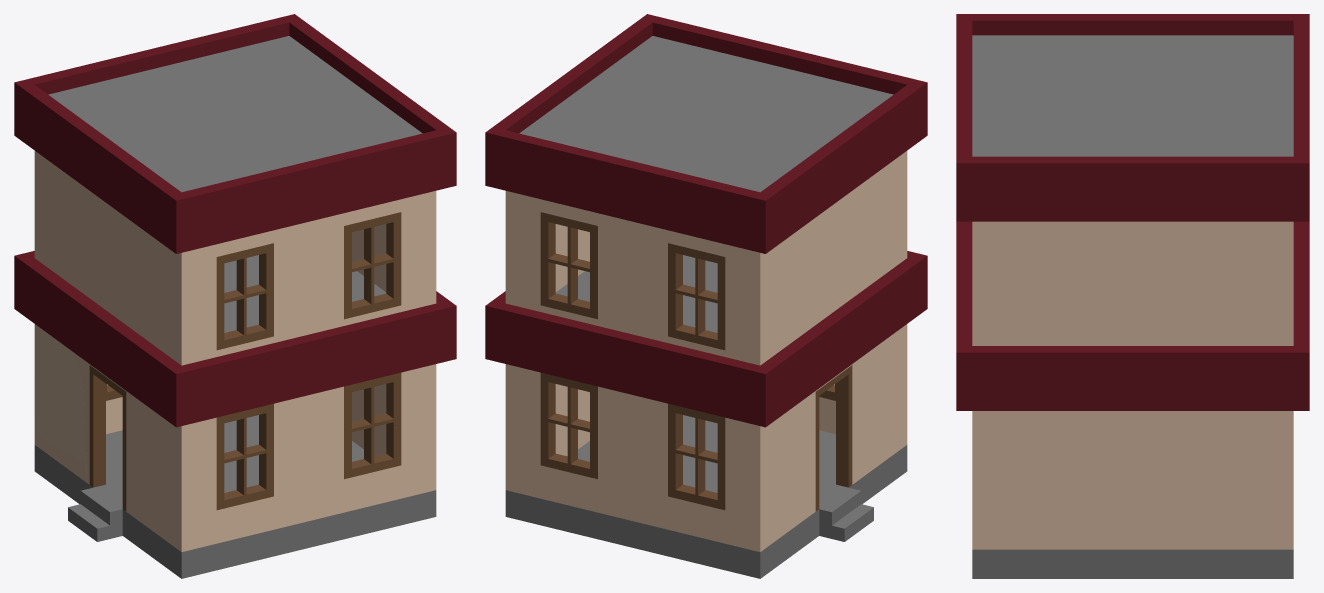
File: 2floor_build_breakablenew.fbx
The picture shows the model from 3 angles, left to right: view 1: azimuth 30°, elevation 25°; view 2: azimuth 150°, elevation 25°; view 3: azimuth 270°, elevation 25°; orthographic projection. The views are drawn at different scales.
Parts seen in each view (by area): view 1: Floors, Border, Wall_window, Wall, Floor, Window, Border.004_cell, Wall_window.003_cell.001_cell, Border_cell.001, Wall_Door_cell.001, Border_cell, Wall_Door_cell.002 (+35 smaller); view 2: Border, Wall_window, Floors, Wall, Window, Floor, Border.006_cell.001, Border.004_cell, Border_cell, Border.002_cell.001, Border_cell.001, Wall_Door_cell.001 (+18 smaller); view 3: Wall, Border, Floors, Border.001_cell, Floor, Border.005_cell.001, Border.005_cell, Wall_cell.002, Border.001_cell.001, Border.006_cell.001, Border.002_cell, Border.003_cell.001.
Part boxes in pixels (left/top/right/bottom): Floors: left=48, top=36, right=422, bottom=332; Border: left=15, top=17, right=456, bottom=427; Wall_window: left=106, top=194, right=423, bottom=548; Wall: left=34, top=151, right=436, bottom=492; Floor: left=34, top=415, right=436, bottom=578; Window: left=106, top=212, right=401, bottom=499; Border.004_cell: left=73, top=126, right=188, bottom=253; Wall_window.003_cell.001_cell: left=222, top=227, right=337, bottom=355; Border_cell.001: left=99, top=316, right=188, bottom=426; Wall_Door_cell.001: left=37, top=328, right=87, bottom=481; Border_cell: left=14, top=256, right=104, bottom=374; Wall_Door_cell.002: left=75, top=354, right=194, bottom=486; Border: left=485, top=17, right=926, bottom=426; Wall_window: left=518, top=194, right=835, bottom=548; Floors: left=519, top=36, right=893, bottom=332; Wall: left=505, top=151, right=907, bottom=415; Window: left=540, top=212, right=835, bottom=510; Floor: left=505, top=415, right=907, bottom=578; Border.006_cell.001: left=626, top=162, right=759, bottom=250; Border.004_cell: left=824, top=82, right=927, bottom=209; Border_cell: left=753, top=312, right=855, bottom=427; Border.002_cell.001: left=623, top=350, right=757, bottom=424; Border_cell.001: left=838, top=252, right=927, bottom=361; Wall_Door_cell.001: left=763, top=401, right=813, bottom=535; Wall: left=972, top=221, right=1293, bottom=549; Border: left=956, top=14, right=1309, bottom=410; Floors: left=972, top=35, right=1293, bottom=156; Border.001_cell: left=956, top=346, right=1309, bottom=410; Floor: left=972, top=549, right=1293, bottom=578; Border.005_cell.001: left=1137, top=156, right=1309, bottom=221; Border.005_cell: left=956, top=156, right=1141, bottom=221; Wall_cell.002: left=1203, top=445, right=1293, bottom=549; Border.001_cell.001: left=1243, top=361, right=1309, bottom=410; Border.006_cell.001: left=1293, top=20, right=1309, bottom=86; Border.002_cell: left=1293, top=280, right=1309, bottom=345; Border.003_cell.001: left=956, top=221, right=972, bottom=291.
Size of the model in its own units: 460 by 580 by 440.
